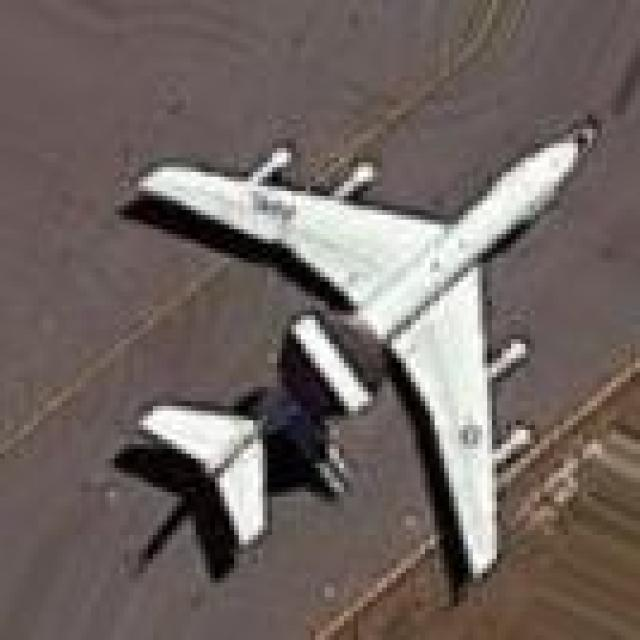E-3_TopDown: (105, 110, 597, 592)
